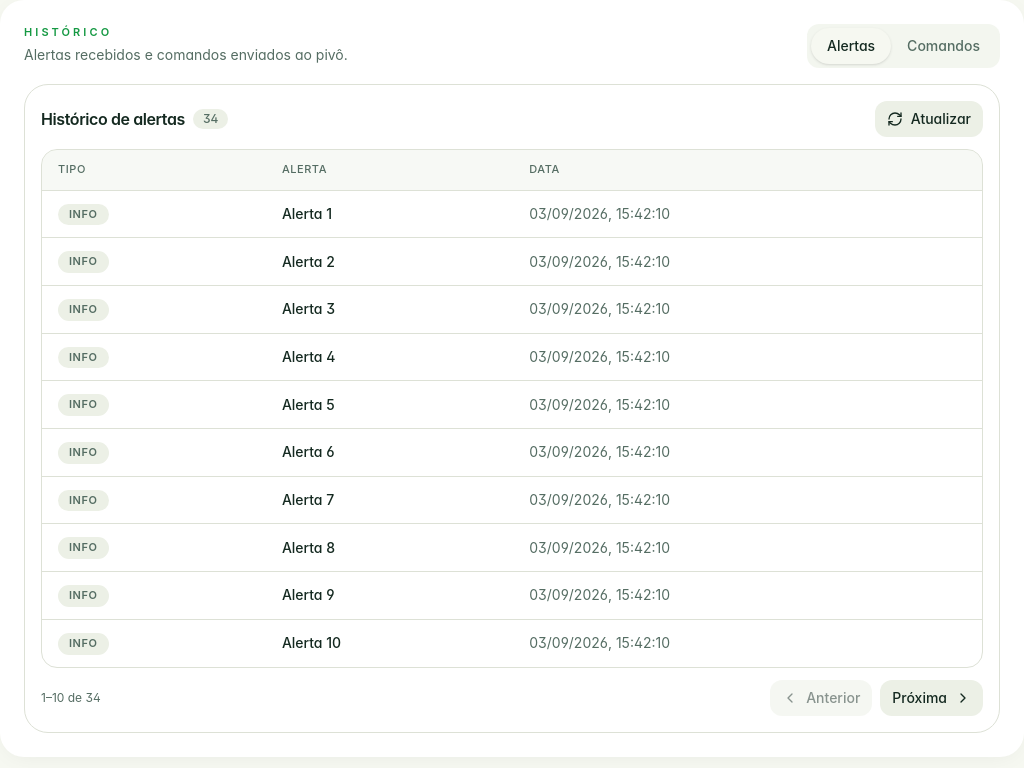
PivotHistoryCard › pagina de 10 em 10 respeitando os limites
Check: the text "1–10 de 34" is shown, box x1=41 y1=690 x2=101 y2=706
Check: the button "Anterior" is disabled, box x1=770 y1=680 x2=872 y2=716
Click the button "Próxima" at x=932, y=698, box x1=880 y1=680 x2=983 y2=716
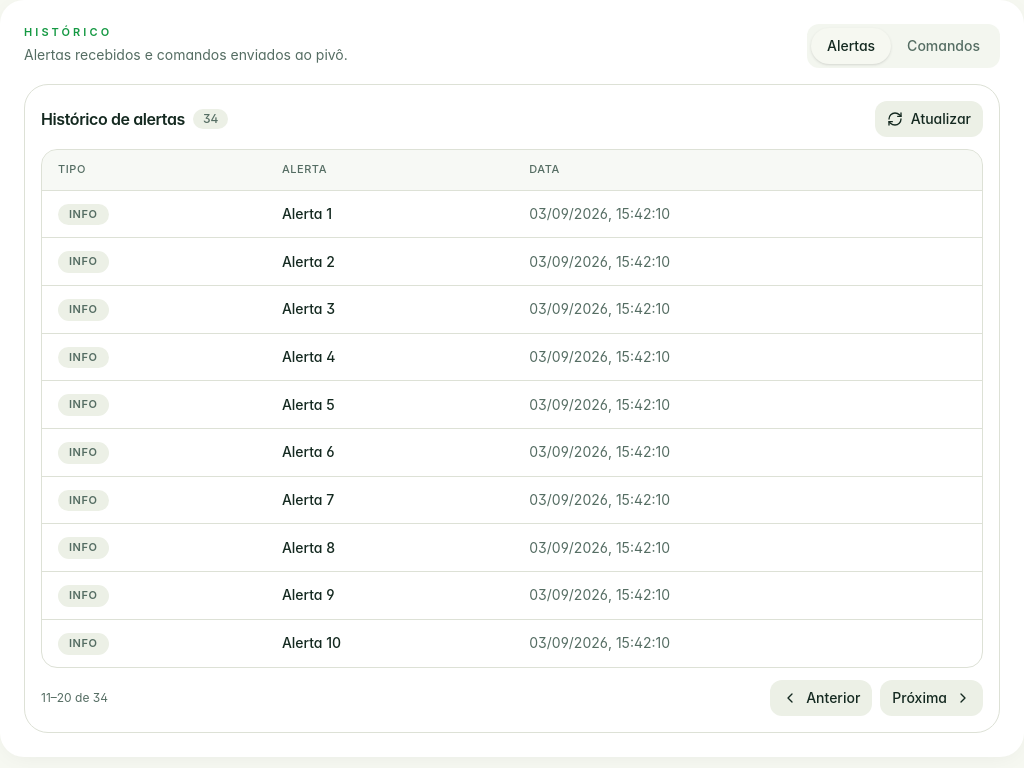
Check: the text "11–20 de 34" is shown, box x1=41 y1=690 x2=108 y2=706
Check: the button "Anterior" is enabled, box x1=770 y1=680 x2=872 y2=716
Click the button "Próxima" at x=932, y=698, box x1=880 y1=680 x2=983 y2=716
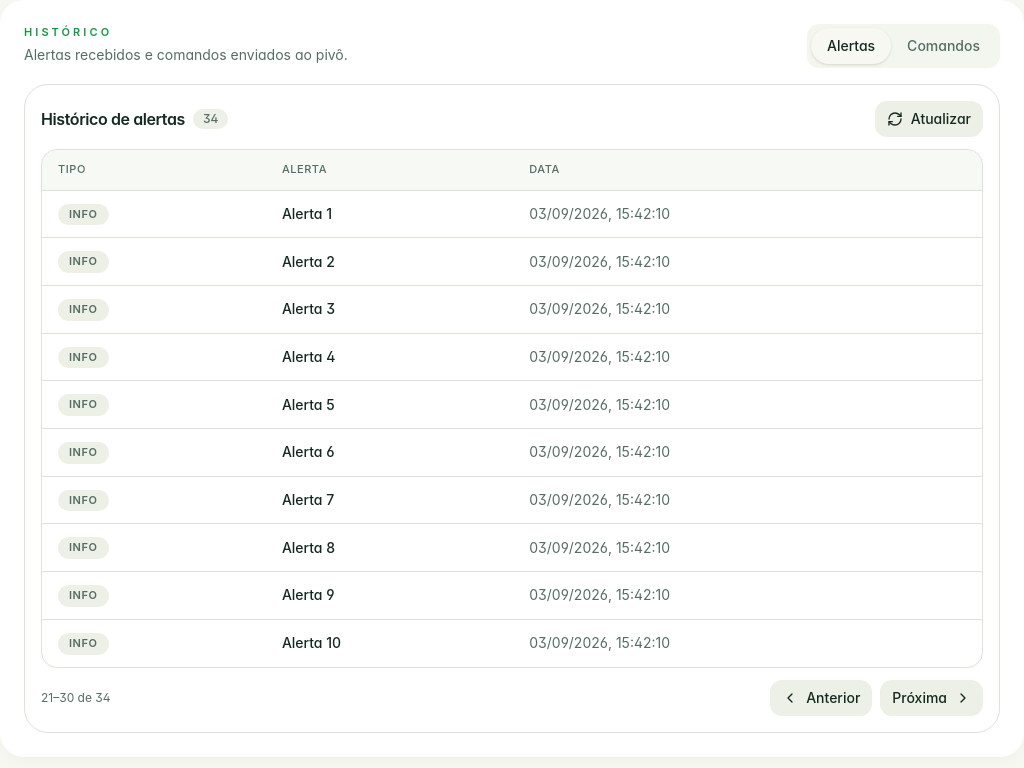
Click the button "Próxima" at x=932, y=698, box x1=880 y1=680 x2=983 y2=716
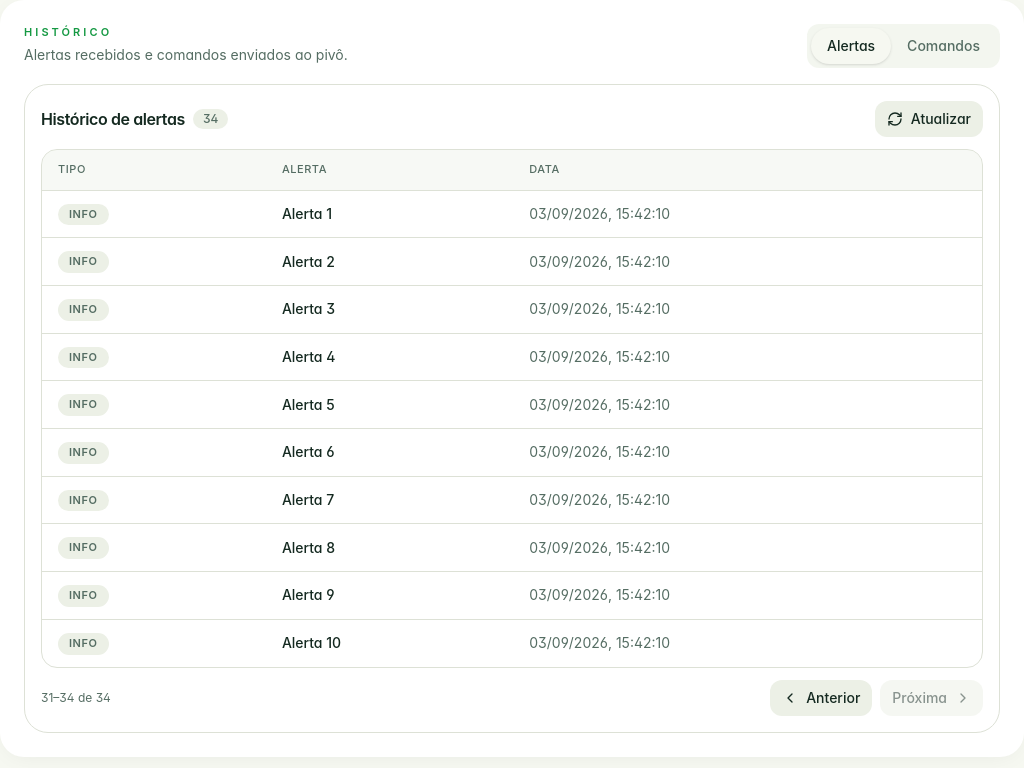
Check: the text "31–34 de 34" is shown, box x1=41 y1=690 x2=111 y2=706
Check: the button "Próxima" is disabled, box x1=880 y1=680 x2=983 y2=716
Click the button "Anterior" at x=821, y=698, box x1=770 y1=680 x2=872 y2=716
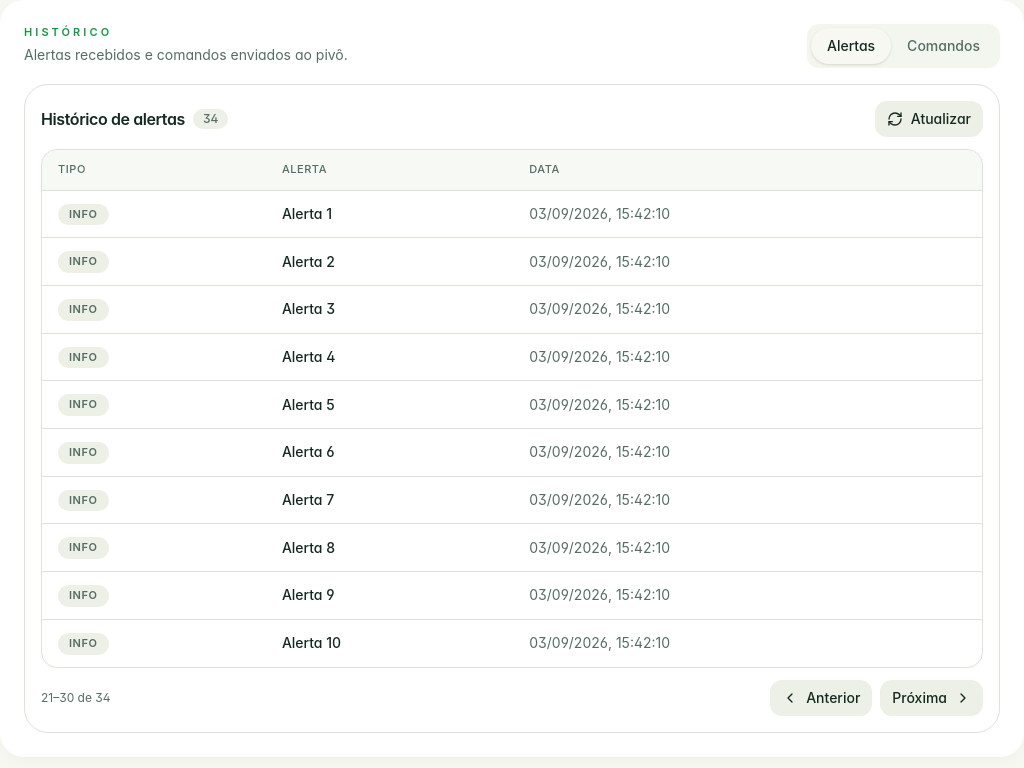
Check: the text "21–30 de 34" is shown, box x1=41 y1=690 x2=110 y2=706
